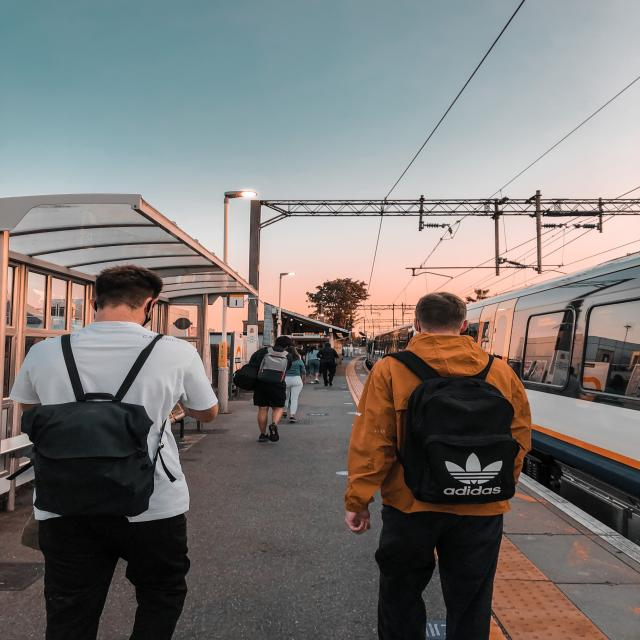backpack: (36, 331, 172, 519), (377, 350, 520, 504), (253, 347, 290, 382)
